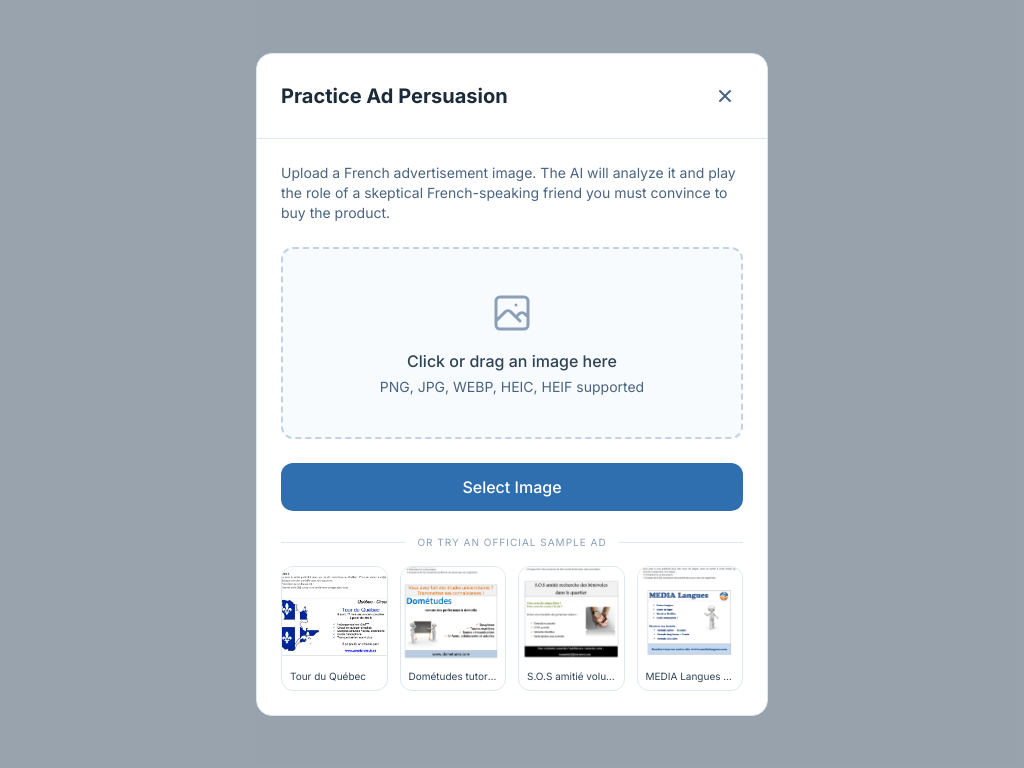
Test: when the sample fetch fails: shows an error, does not analyse, stays on upload step
What coordinates should you click on to do the following:
click the button "Tour du Québec"
I would click on:
 (334, 628)
Its box is [281,566,388,690].
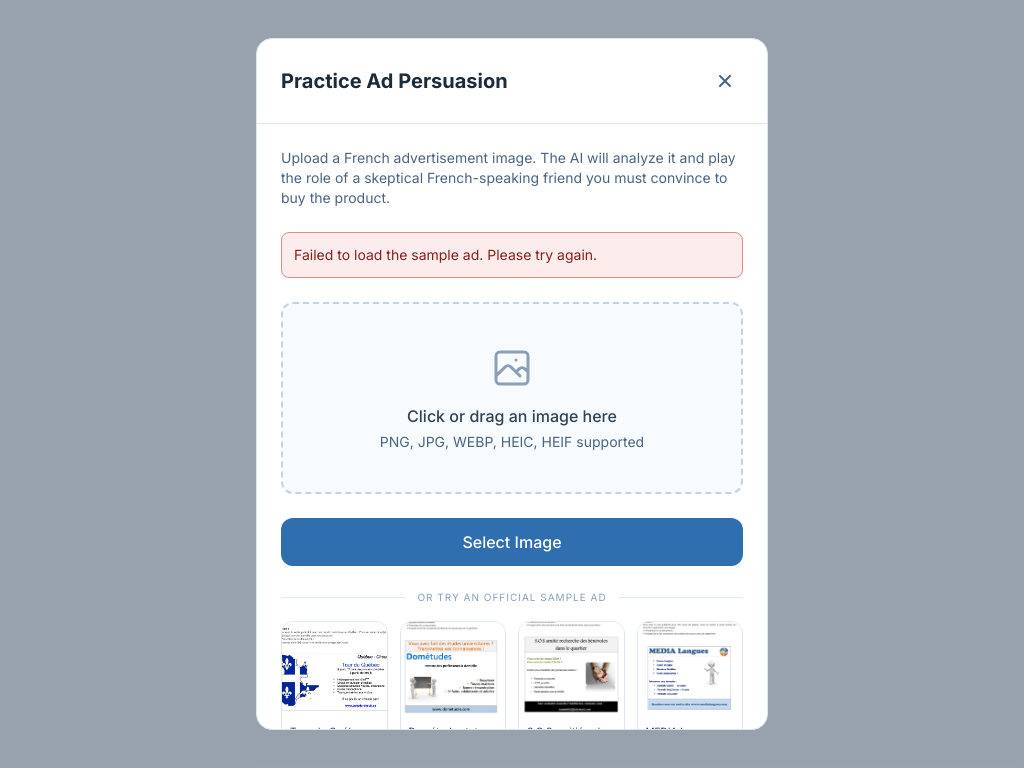
Check: the button with aria-label "upload advertisement image" is shown, box [281,302,743,494]
Check: the text "Failed to load the sample ad. Please try again." is shown, box [294,246,597,263]
